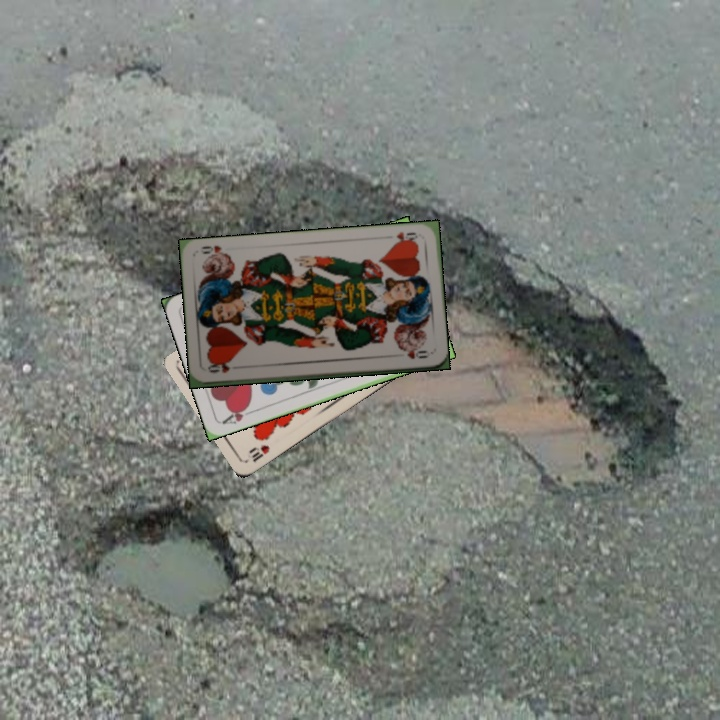H10: (246, 440, 272, 464)
HA: (218, 402, 257, 427)
HO: (390, 228, 420, 247), (204, 361, 232, 375)
